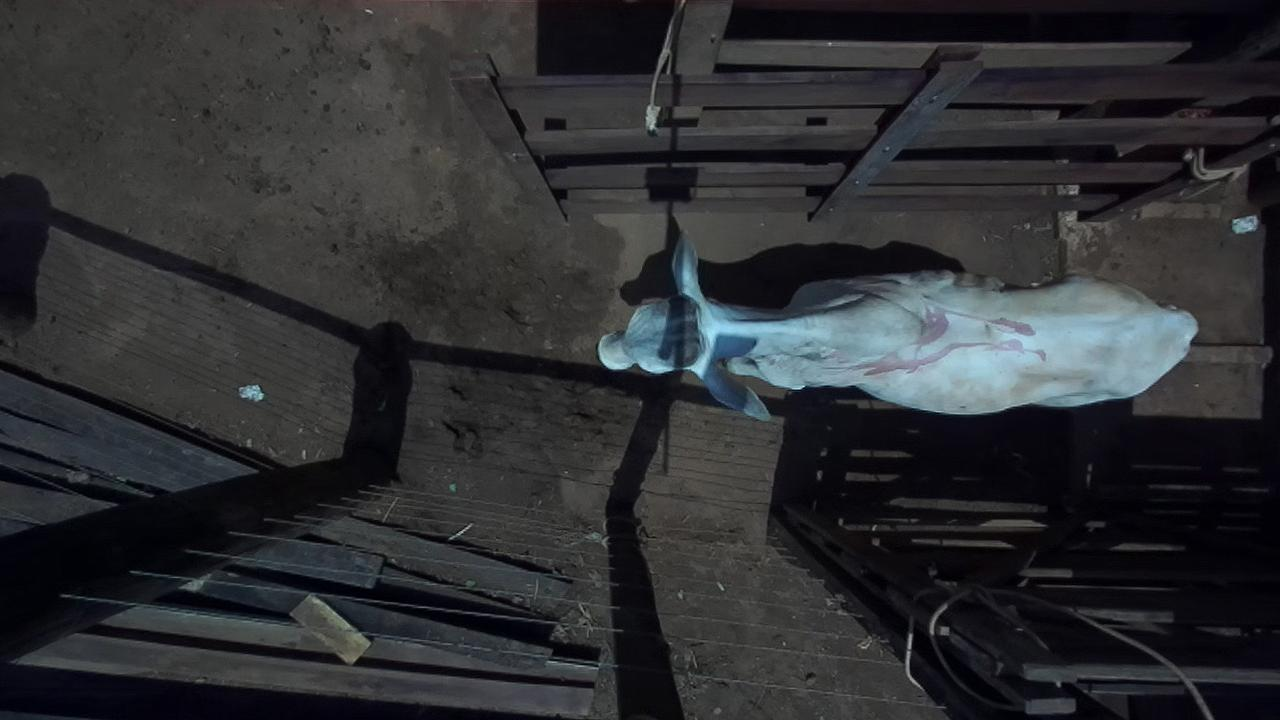cattle: (596, 230, 1199, 422)
